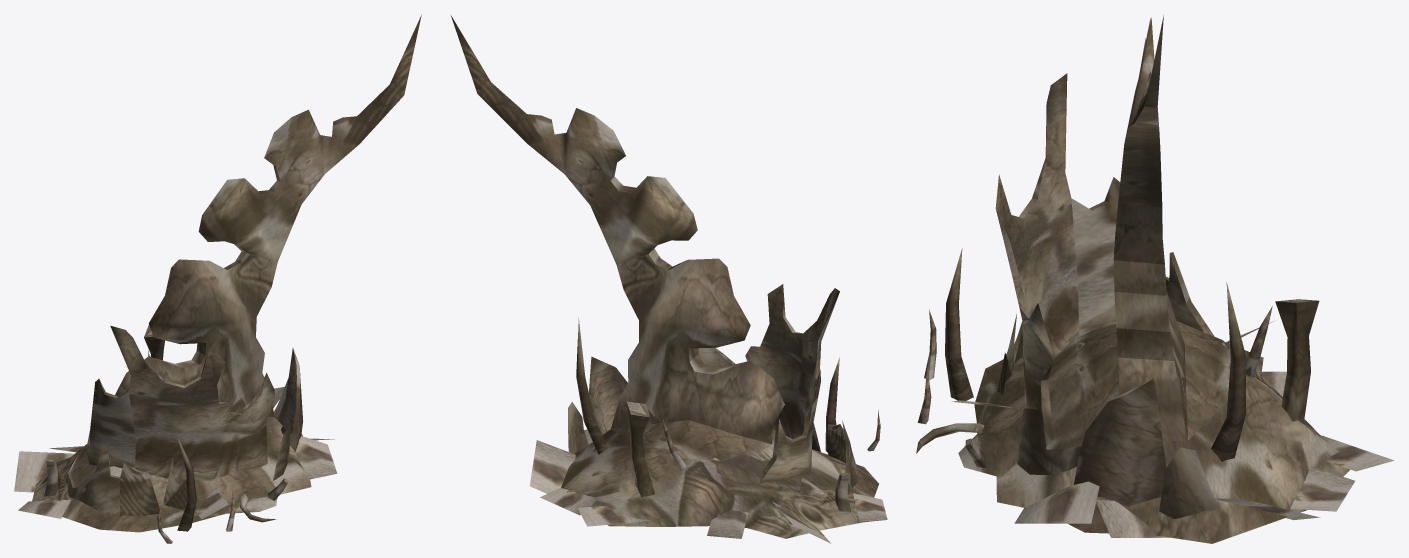
The model's file is stone_09.FBX.
The picture shows the model from 3 angles, left to right: view 1: azimuth 30°, elevation 25°; view 2: azimuth 150°, elevation 25°; view 3: azimuth 270°, elevation 25°; orthographic projection. The views are drawn at different scales.
Parts seen in each view (by area): view 1: stone_09; view 2: stone_09; view 3: stone_09.
Boxes of the visible parts, <box> form: stone_09: <box>14,14,421,543</box>; stone_09: <box>451,15,887,543</box>; stone_09: <box>916,15,1394,543</box>.
Size of the model in its own units: 20.5 by 19.08 by 13.27.
